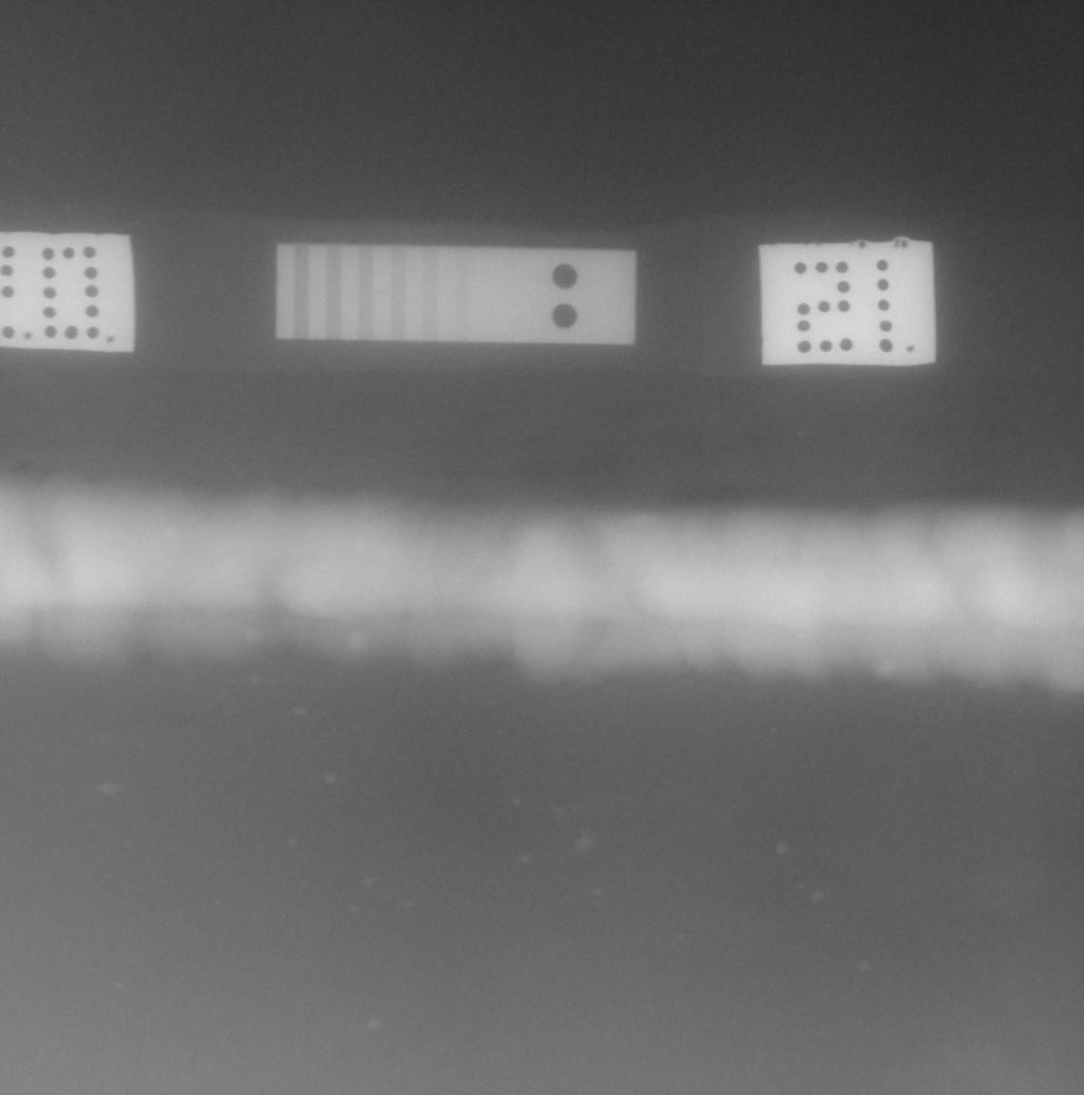Reference Standard 2: (276, 243, 636, 345)
